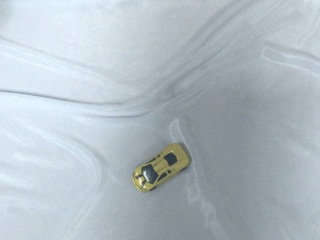toy_car: (133, 143, 190, 191)
